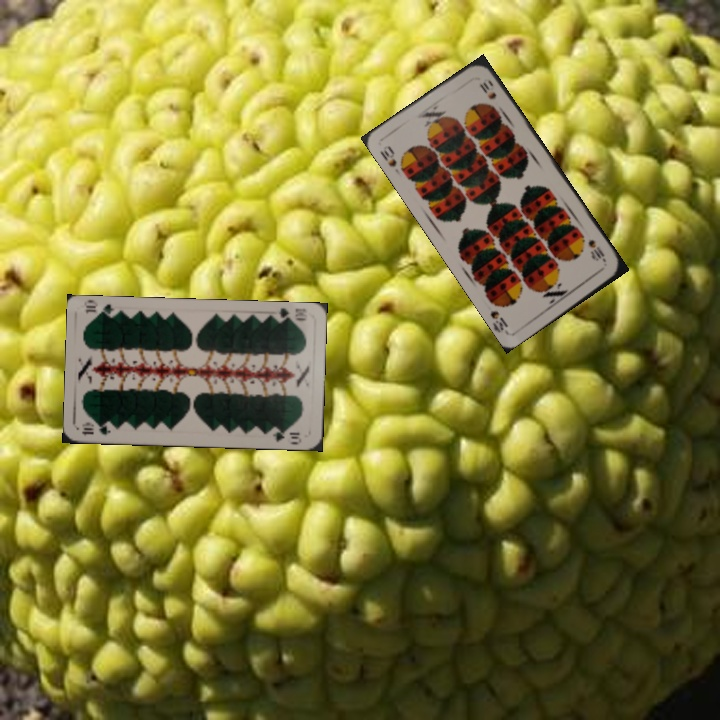G10: (274, 304, 310, 325), (77, 419, 114, 438)
S10: (584, 235, 609, 265), (376, 142, 400, 170)
